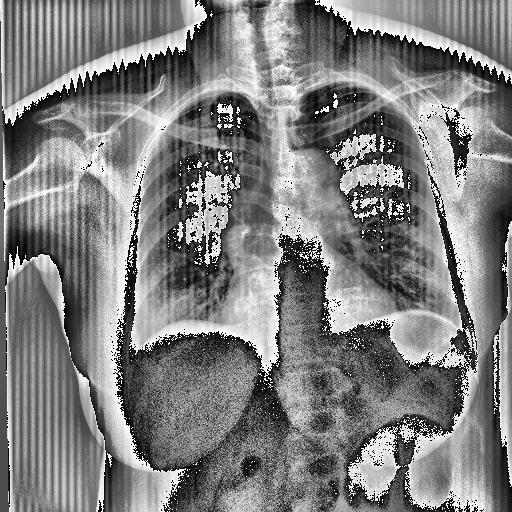0- Aortic enlargement: (210, 141, 360, 231), (232, 148, 341, 210)
5- ILD: (344, 186, 419, 279)
8- Nodule-Mass: (209, 186, 277, 282), (309, 178, 364, 265)
